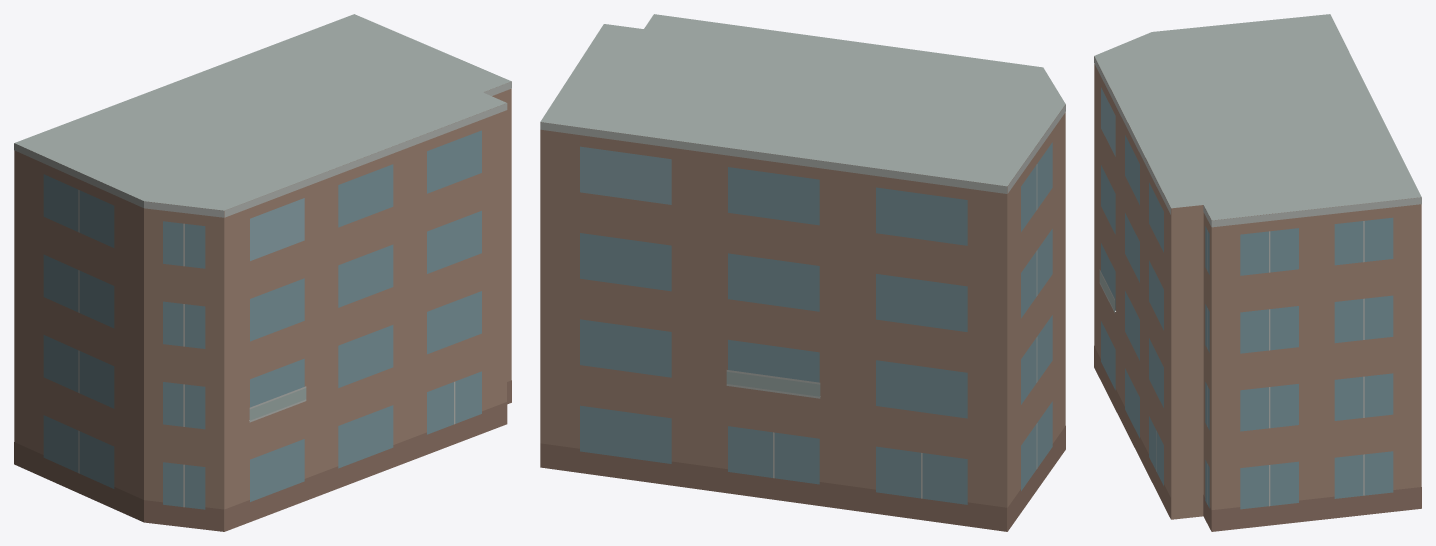
The model's file is survey-upis-32808952.glb.
The picture shows the model from 3 angles, left to right: view 1: azimuth 30°, elevation 25°; view 2: azimuth 150°, elevation 25°; view 3: azimuth 270°, elevation 25°; orthographic projection. The views are drawn at different scales.
Parts seen in each view (by area): view 1: survey-upis-32808952.tmp; view 2: survey-upis-32808952.tmp; view 3: survey-upis-32808952.tmp.
Boxes of the visible parts, x1,y1,x2,y2 form: survey-upis-32808952.tmp: (14, 14, 511, 531); survey-upis-32808952.tmp: (540, 14, 1065, 531); survey-upis-32808952.tmp: (1094, 14, 1421, 531).
Bounding box in the file's own units: 15.58 × 10.95 × 10.45.
